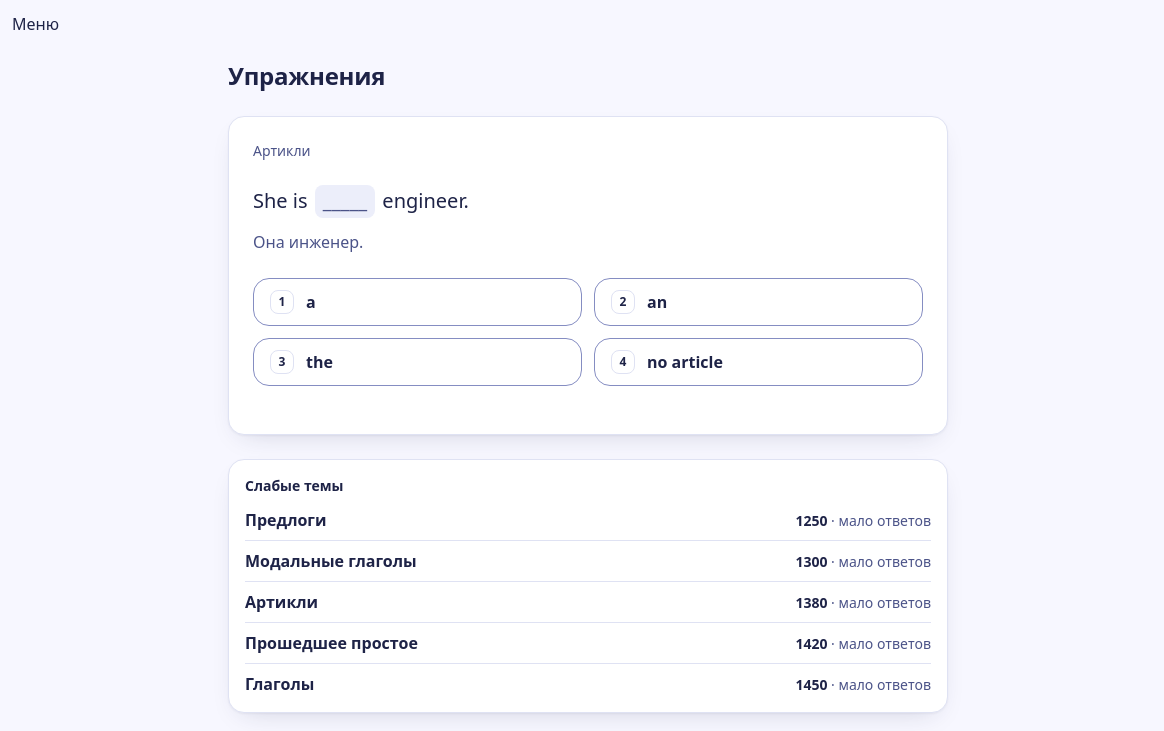
ExercisesPage › удержание клавиши и двойное нажатие отправляют один ответ
The width and height of the screenshot is (1164, 731).
Type keys "{2>3/}"
Type keys "2"
Click the button "2 an" at (623, 302), box [594,278,923,326]
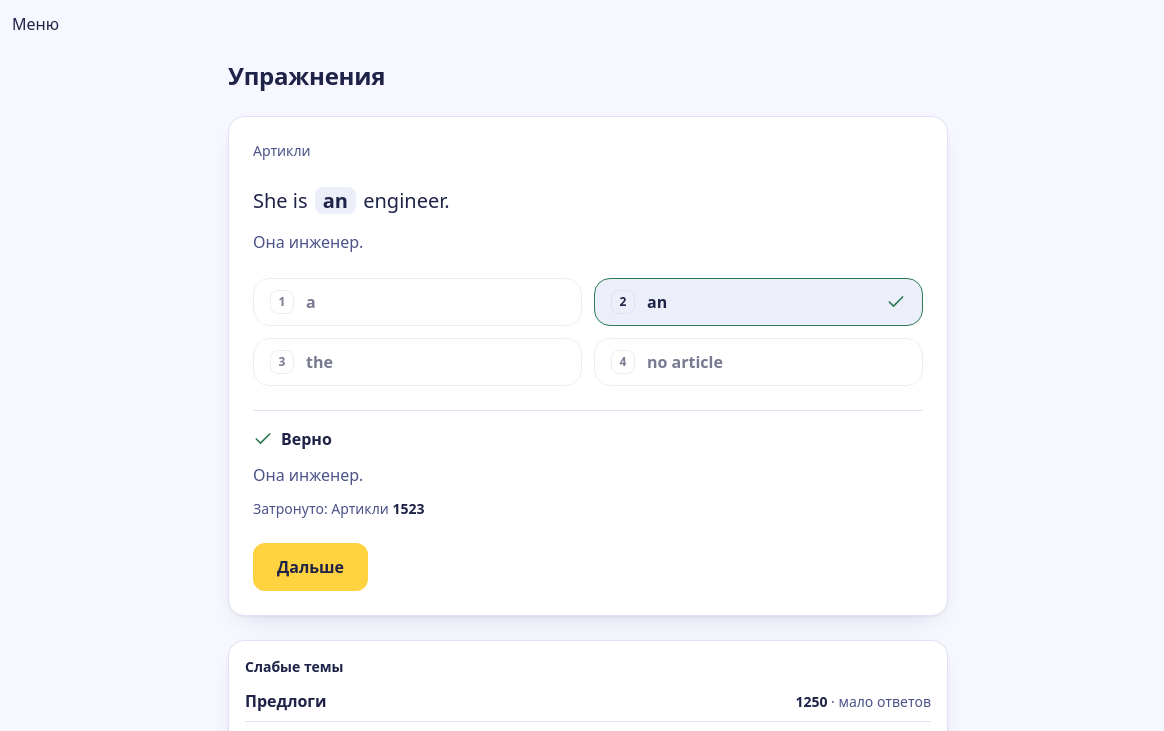
Result: the text "Верно" is shown at [253,428,332,450]
